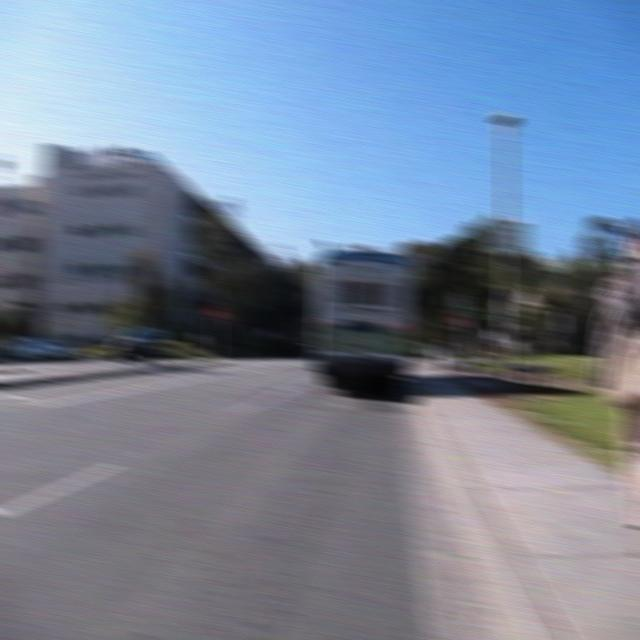stop: (446, 310, 469, 333), (205, 301, 227, 322)
